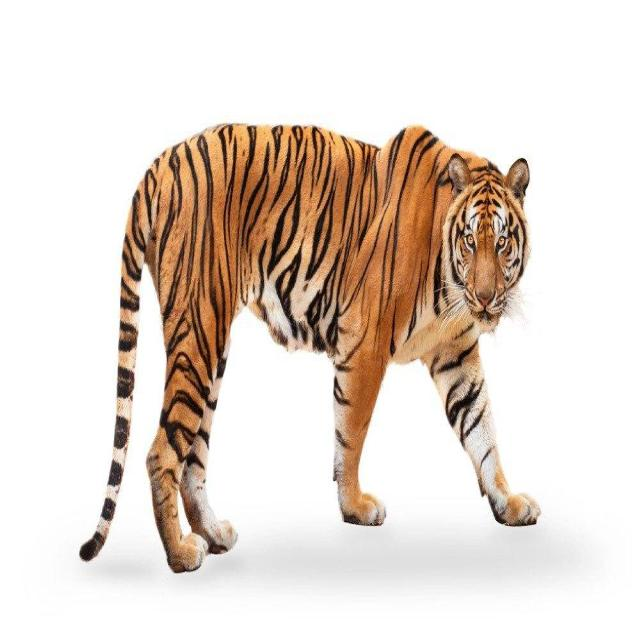Tiger: (79, 74, 592, 569)
